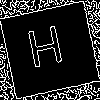H: (24, 25, 68, 78)
